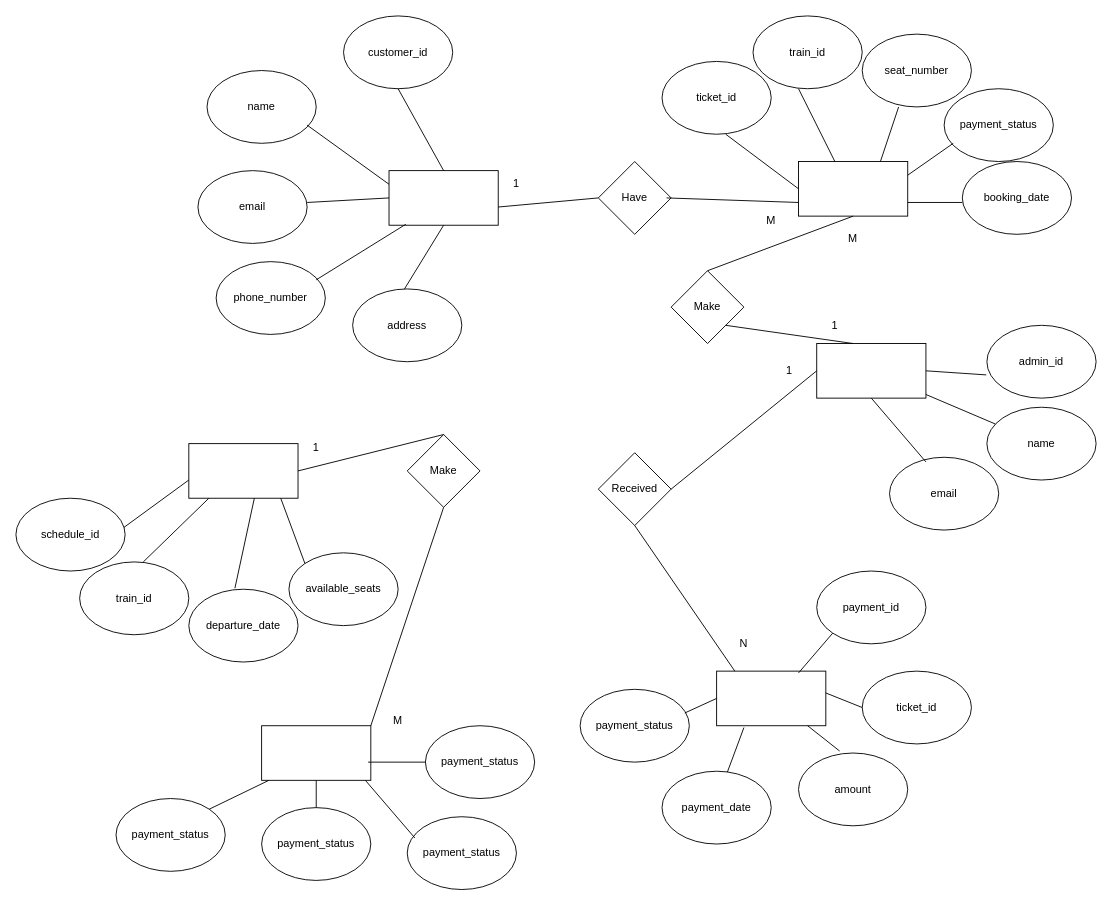
Image size: 1112x905. Some labels were removed from this diagram. The centre of each missing label's shape, as x and y in pixels:
"Admin" goes at pixel 871 370.
"Customer" goes at pixel 443 197.
"Payment" goes at pixel 771 698.
"Ticket" goes at pixel 853 188.
"Train" goes at pixel 316 752.
"Train_Schedule" goes at pixel 243 470.
